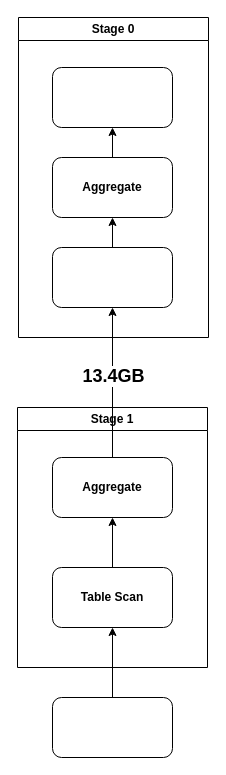
Image size: 226x775. Some labels were removed from this diagram. Each missing label, with the centre of its shape:
"Local Exchange" belongs at point (112, 277).
"Output" belongs at point (112, 97).
"PartSupp" belongs at point (112, 727).
